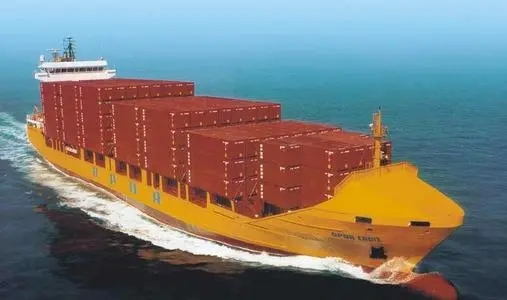Cargoship: (23, 30, 468, 277)
